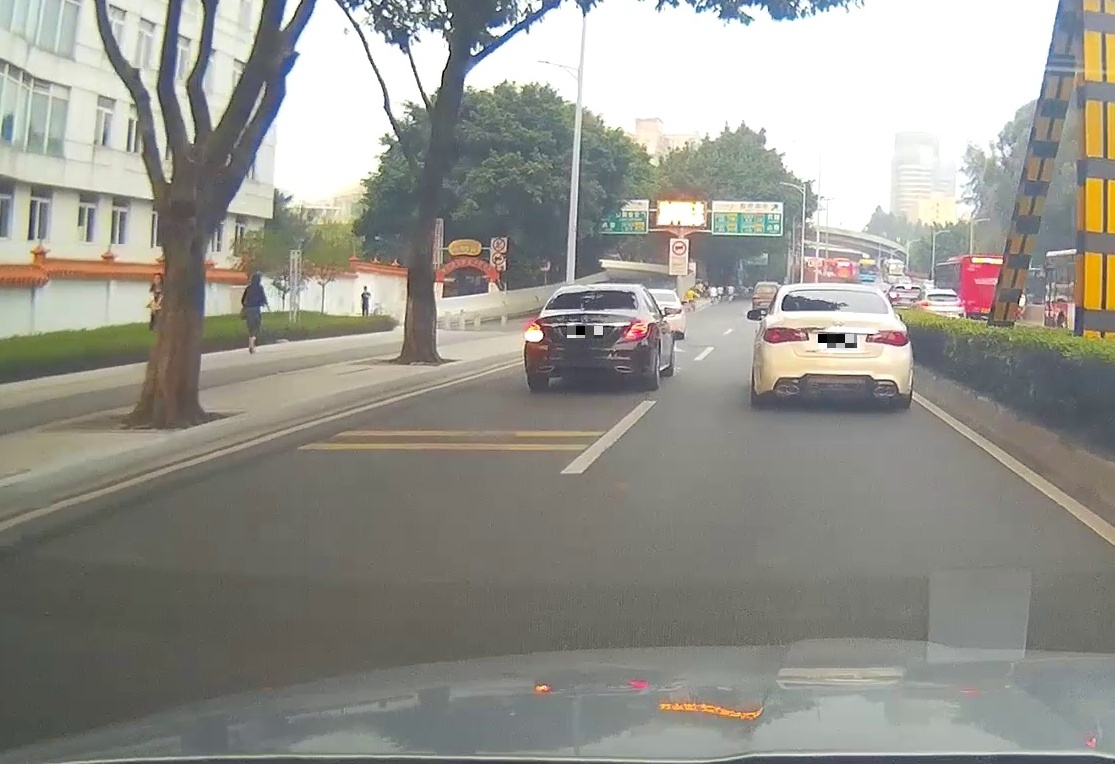L_light: (762, 326, 810, 344), (524, 324, 544, 342)
R_light: (865, 329, 908, 346), (623, 320, 649, 340)
T_light: (823, 290, 847, 295), (587, 290, 606, 294)
day-left: (523, 286, 652, 391)
day-no: (758, 284, 910, 408)
plate_1: (567, 326, 603, 338)
plate_2: (818, 334, 857, 348)
